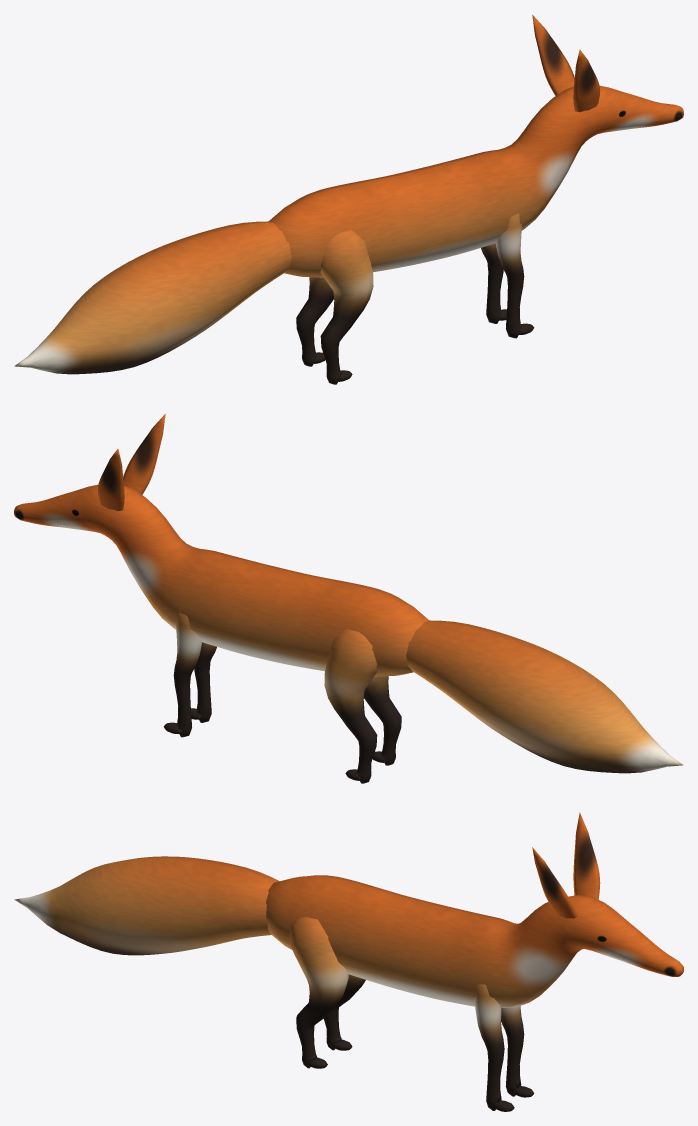
Rendered from fox.glb.
The picture shows the model from 3 angles, top to bottom: view 1: azimuth 30°, elevation 25°; view 2: azimuth 150°, elevation 25°; view 3: azimuth 330°, elevation 25°; orthographic projection.
Visible parts, largest first — view 1: fox; view 2: fox; view 3: fox.
Boxes of the visible parts, <box> form: fox: <box>14,15,683,384</box>; fox: <box>14,414,683,783</box>; fox: <box>14,812,683,1111</box>.
Bounding box in the file's own units: 1.55 × 0.6351 × 0.1909.
1 material, 1 textured.
